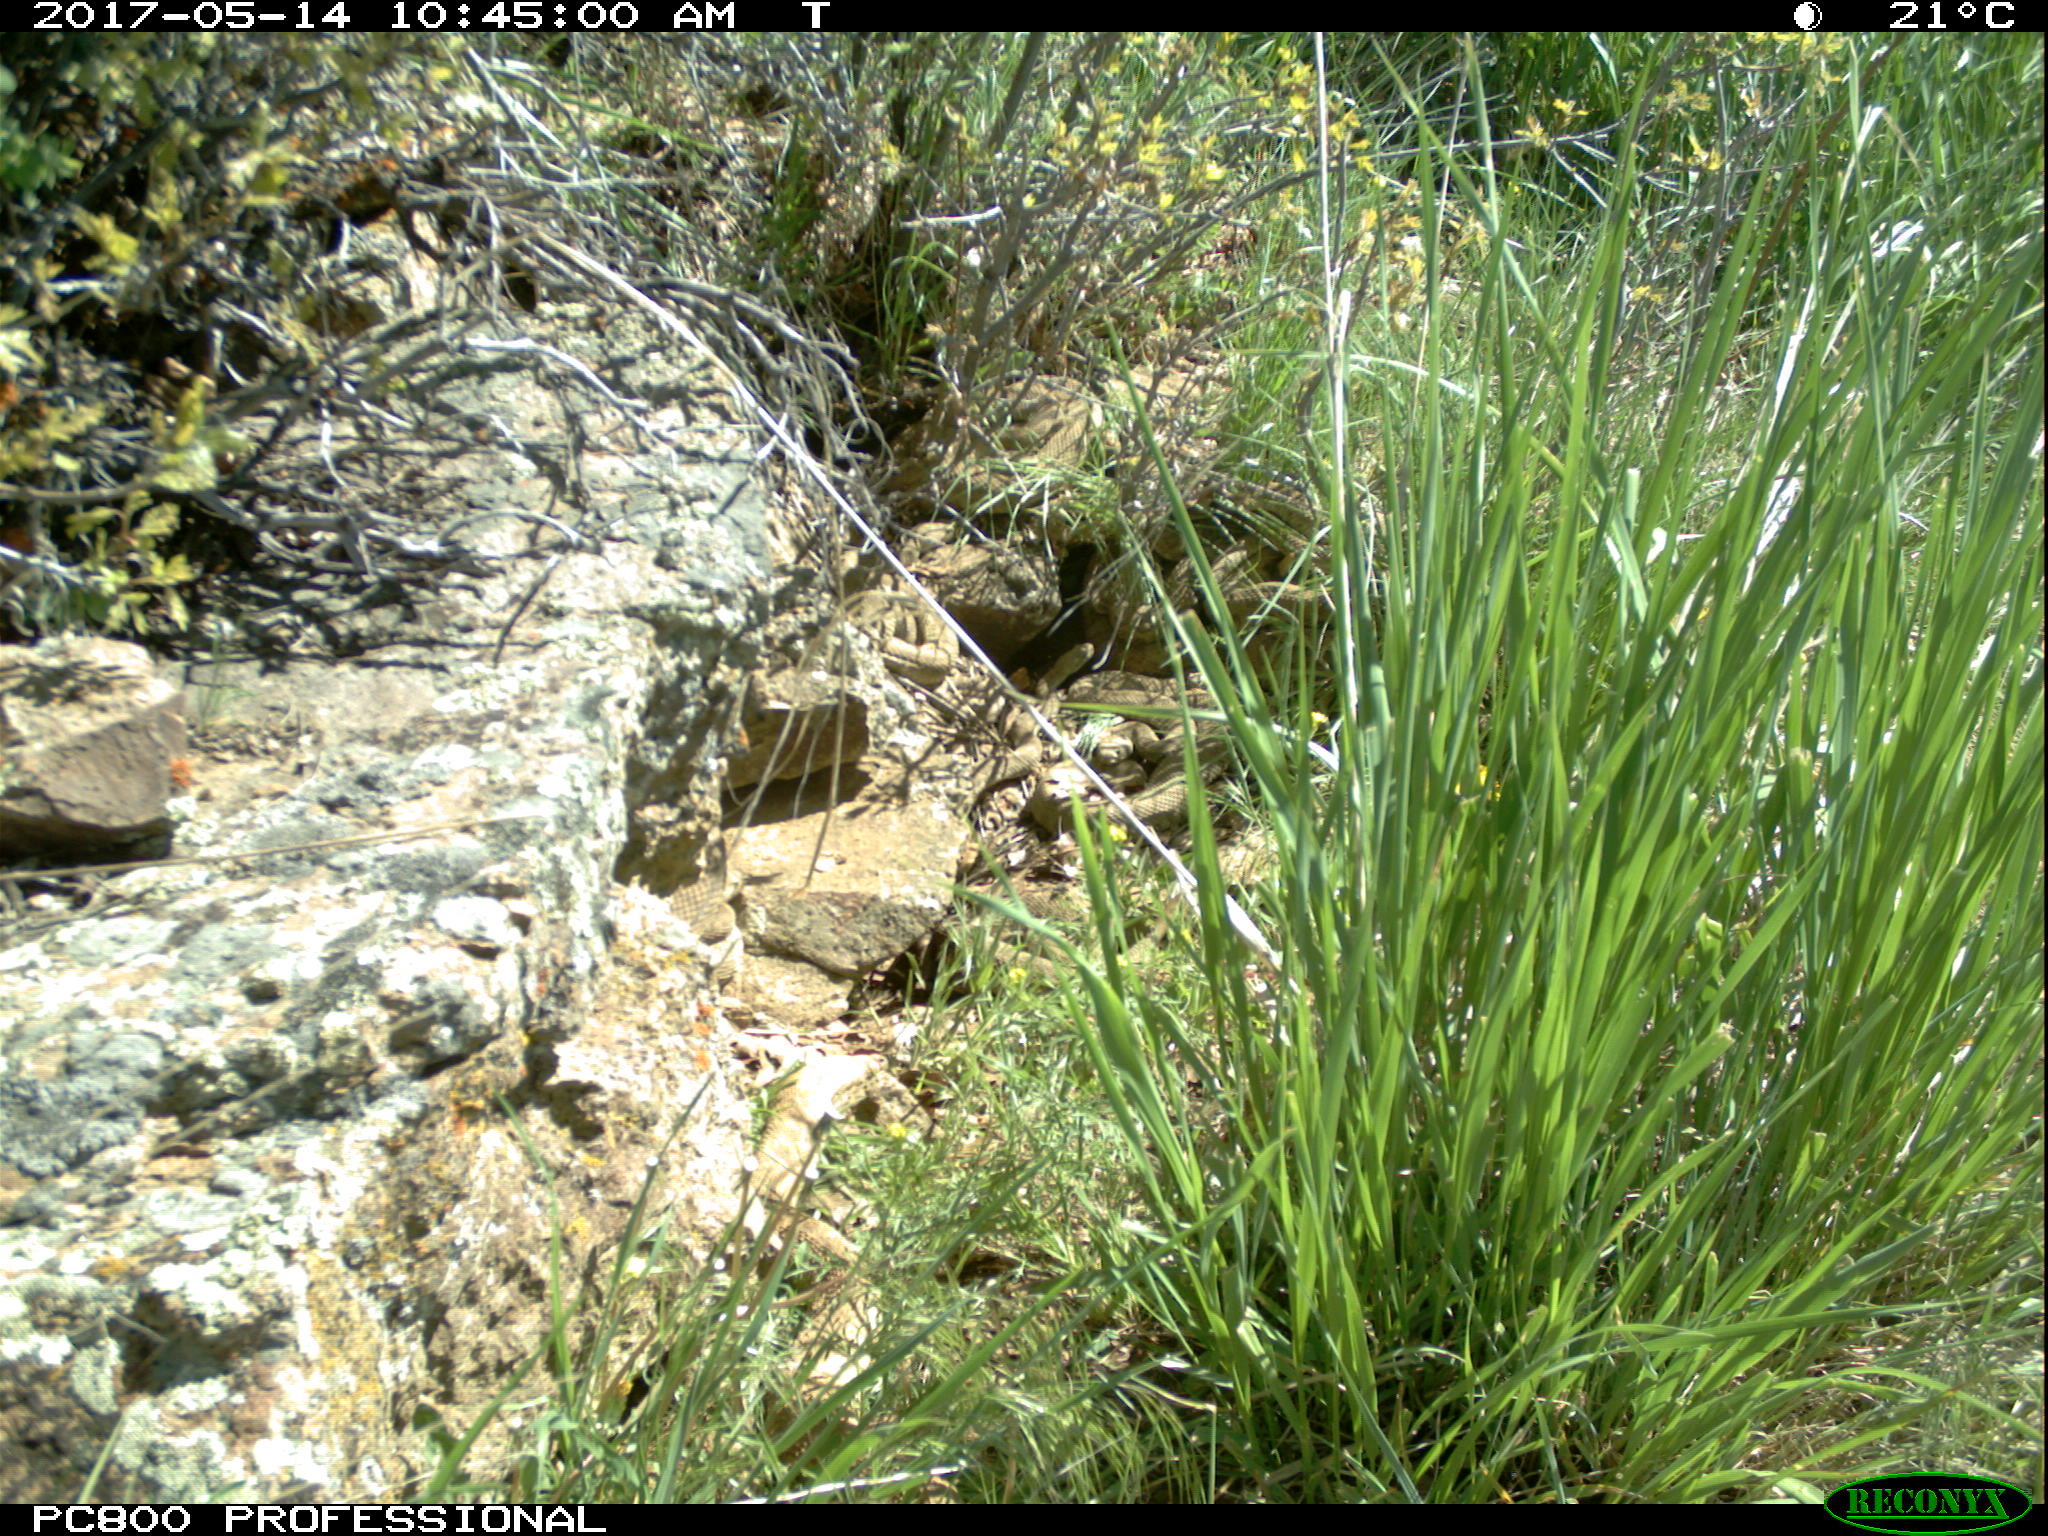snake: (742, 1052, 880, 1352), (1022, 687, 1214, 845), (922, 369, 1093, 515), (1197, 524, 1335, 624), (868, 594, 961, 686), (1029, 636, 1105, 692)
